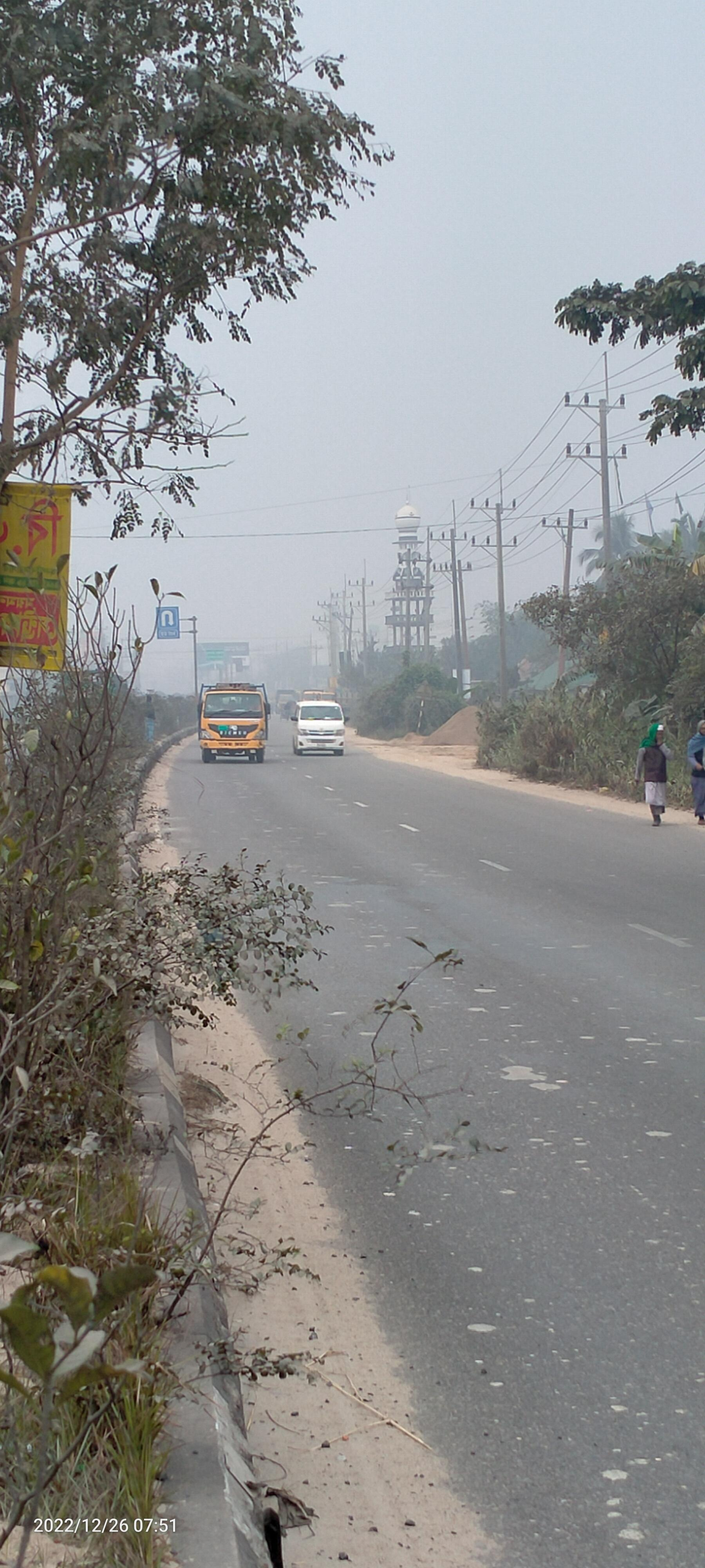Car: (289, 693, 349, 764)
Truck: (193, 673, 275, 771)
